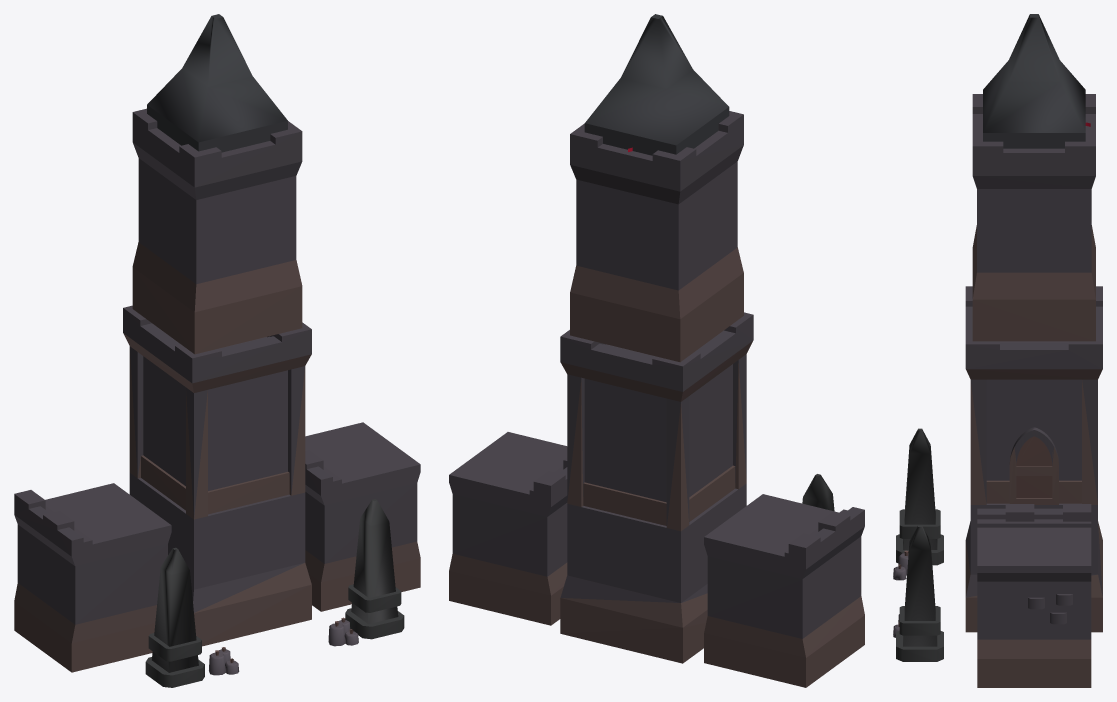
File: fortress_l1.glb
3 views of the same model, side by side, from view 1: azimuth 30°, elevation 25°; view 2: azimuth 150°, elevation 25°; view 3: azimuth 270°, elevation 25° (orthographic). The views are drawn at different scales.
Visible parts, largest first — view 1: fortress_l1; view 2: fortress_l1; view 3: fortress_l1.
Boxes of the visible parts, x1,y1,x2,y2 form: fortress_l1: [14, 14, 420, 687]; fortress_l1: [449, 14, 864, 687]; fortress_l1: [893, 14, 1102, 687].
Size of the model in its own units: 5.25 by 8.52 by 2.75.
